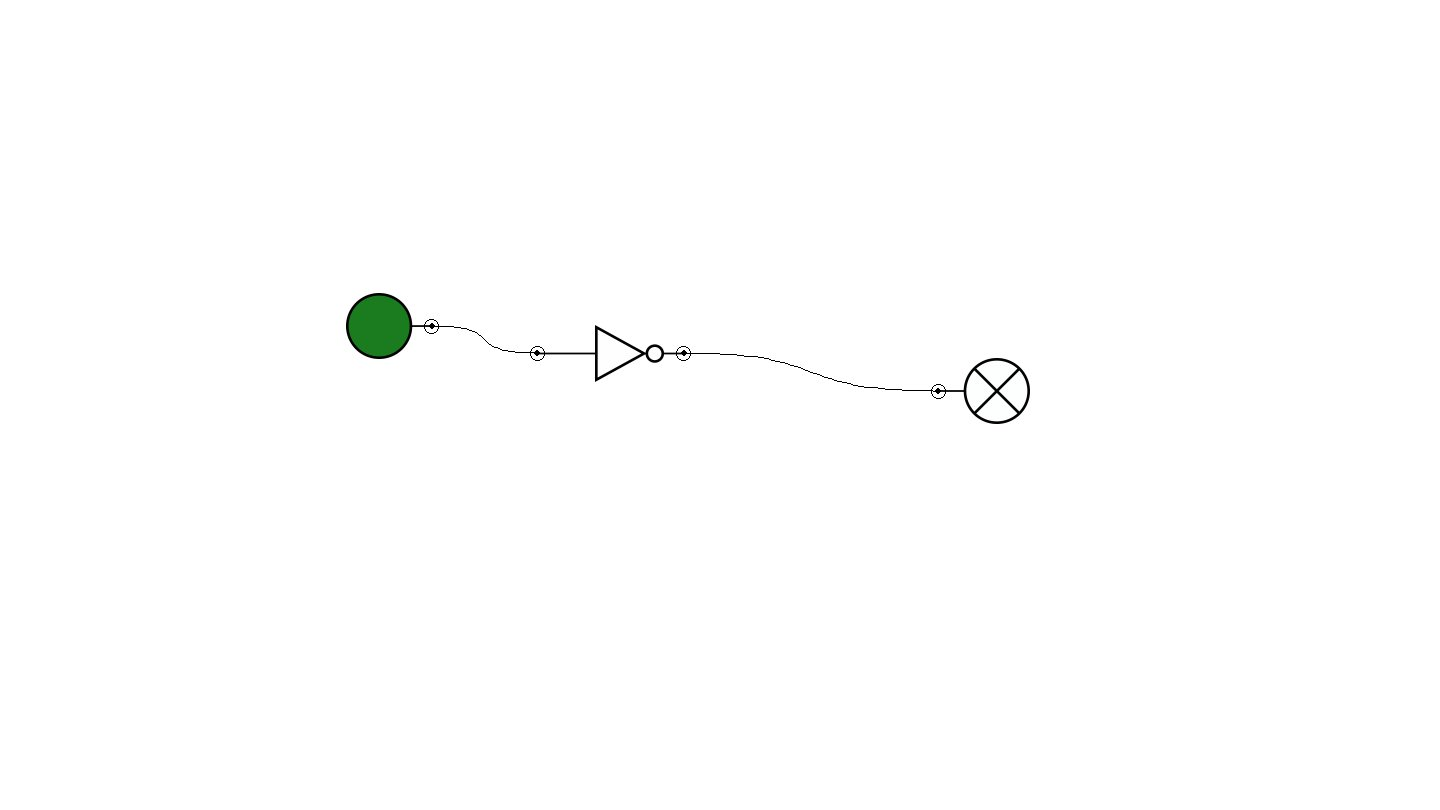bulb: (931, 358, 1030, 424)
not: (530, 325, 691, 382)
switch_True: (346, 293, 439, 359)
